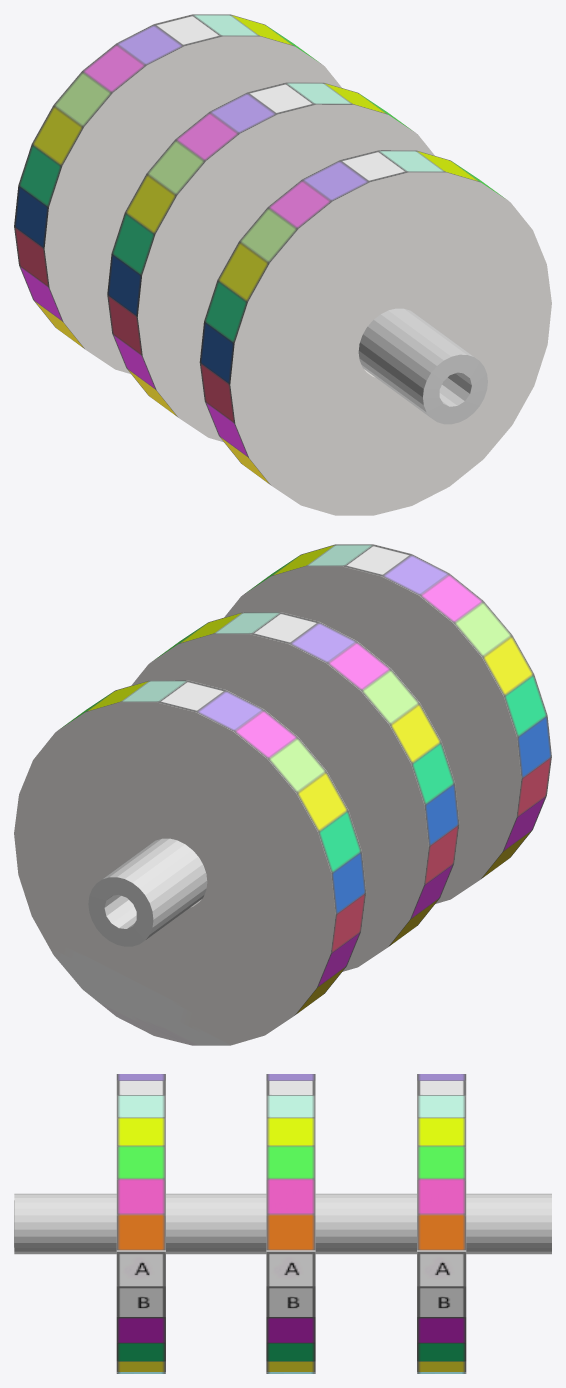
The model's file is rotors2.fbx.
3 views of the same model, one above another, from view 1: azimuth 30°, elevation 25°; view 2: azimuth 150°, elevation 25°; view 3: azimuth 270°, elevation 25° (orthographic). The views are drawn at different scales.
Parts seen in each view (by area): view 1: Cylinder.006, Cylinder.007, Cylinder.004, Cylinder; view 2: Cylinder.007, Cylinder.004, Cylinder.006, Cylinder; view 3: Cylinder, Cylinder.004, Cylinder.006, Cylinder.007.
Boxes of the visible parts, x1,y1,x2,y2 form: Cylinder.006: (199, 150, 551, 515); Cylinder.007: (14, 14, 341, 373); Cylinder.004: (107, 82, 434, 442); Cylinder: (358, 308, 487, 424); Cylinder.007: (14, 680, 366, 1045); Cylinder.004: (131, 612, 459, 971); Cylinder.006: (224, 544, 551, 903); Cylinder: (88, 838, 207, 946); Cylinder: (14, 1193, 551, 1254); Cylinder.004: (266, 1074, 315, 1373); Cylinder.006: (116, 1074, 165, 1373); Cylinder.007: (417, 1074, 466, 1373).
Size of the model in its own units: 200 by 199 by 358.
1 material, 1 textured.
